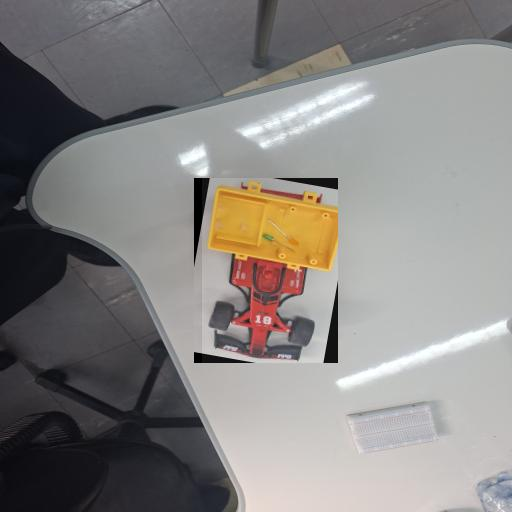carro: (202, 178, 338, 363)
